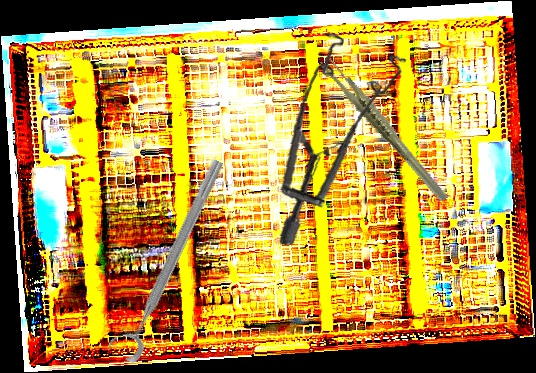Fixation Ring: (103, 151, 230, 365)
Speculum: (260, 26, 423, 246)
Tissue Forceps: (318, 38, 450, 221)
